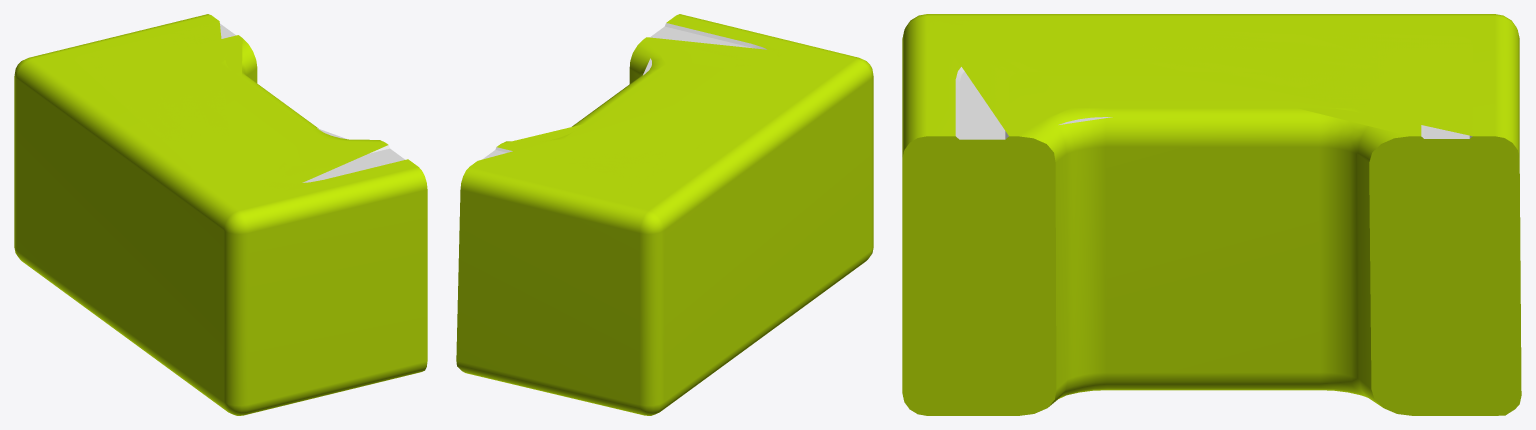
File: loopleft_block.fbx
The picture shows the model from 3 angles, left to right: view 1: azimuth 30°, elevation 25°; view 2: azimuth 150°, elevation 25°; view 3: azimuth 270°, elevation 25°; orthographic projection. The views are drawn at different scales.
Parts seen in each view (by area): view 1: pCube68; view 2: pCube68; view 3: pCube68.
Part boxes in pixels (left/top/right/bottom): pCube68: left=14, top=14, right=427, bottom=415; pCube68: left=456, top=14, right=873, bottom=415; pCube68: left=902, top=14, right=1521, bottom=415.
Size of the model in its own units: 0.0102 by 0.01 by 0.0201.
